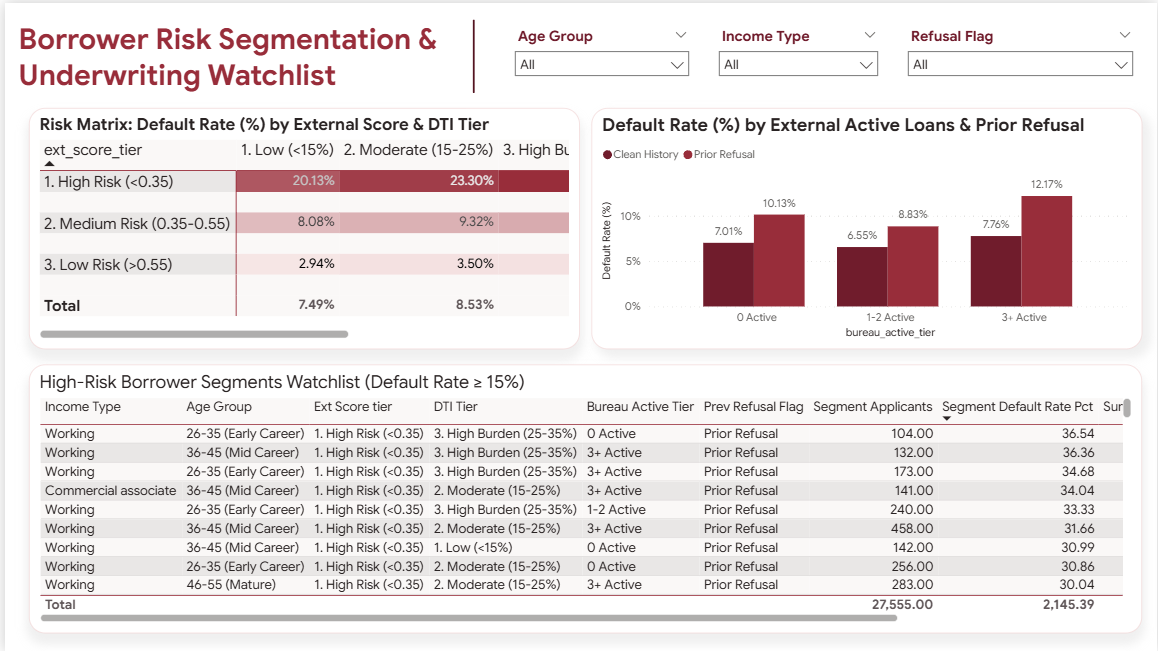

This screenshot's page, from the dashboard's own definition file:
{"tool":"powerbi","page":{"name":"#2 Executive Credit Portfolio & Default Overview","canvas":[1280,720],"ordinal":1},"visuals":[{"type":"textbox","box":[10,14.4,533.3,90],"z":0},{"type":"slicer","fields":{"Values":["public vw_credit_portfolio_summary.age_group"]},"box":[556.7,21.9,213.3,75],"z":1000},{"type":"slicer","fields":{"Values":["public vw_credit_portfolio_summary.name_income_type"]},"box":[783.3,21.9,196.7,75],"z":2000},{"type":"slicer","fields":{"Values":["public vw_credit_portfolio_summary.prev_refusal_flag"]},"box":[993.3,21.9,270,75],"z":3000},{"type":"shape","box":[503.3,18.3,35,81.7],"z":5000},{"type":"pivotTable","title":"Risk Matrix: Default Rate (%) by External Score & DTI Tier","fields":{"Rows":["public vw_credit_portfolio_summary.ext_score_tier"],"Values":["_Measures.Default Rate (%)"],"Columns":["public vw_credit_portfolio_summary.dti_tier"]},"box":[26,116,612,268],"z":10000},{"type":"clusteredColumnChart","title":"Default Rate (%) by External Active Loans & Prior Refusal","fields":{"Y":["_Measures.Default Rate (%)"],"Category":["public vw_credit_portfolio_summary.bureau_active_tier"],"Series":["public vw_credit_portfolio_summary.prev_refusal_flag"]},"box":[651.8,116.4,611.8,268.2],"z":11000},{"type":"tableEx","title":"High-Risk Borrower Segments Watchlist (Default Rate ≥ 15%)","fields":{"Values":["public vw_high_risk_watchlist.name_income_type","public vw_high_risk_watchlist.age_group","public vw_high_risk_watchlist.ext_score_tier","public vw_high_risk_watchlist.dti_tier","public vw_high_risk_watchlist.bureau_active_tier","public vw_high_risk_watchlist.prev_refusal_flag","Sum(public vw_high_risk_watchlist.segment_applicants)","Sum(public vw_high_risk_watchlist.segment_default_rate_pct)","Sum(public vw_high_risk_watchlist.segment_defaults)","Sum(public vw_high_risk_watchlist.at_risk_exposure_million)"]},"box":[26.7,401.7,1236.7,298.3],"z":13000}]}

Visuals, with their boxes in screenshot pixels (x1, y1, x2, y2), scaled from the page's 1280x720 canvas onto the 1158x651 screenshot:
textbox: x1=9, y1=13, x2=492, y2=94
slicer - public vw_credit_portfolio_summary.age_group: x1=504, y1=20, x2=697, y2=88
slicer - public vw_credit_portfolio_summary.name_income_type: x1=709, y1=20, x2=887, y2=88
slicer - public vw_credit_portfolio_summary.prev_refusal_flag: x1=899, y1=20, x2=1143, y2=88
shape: x1=455, y1=17, x2=487, y2=90
"Risk Matrix: Default Rate (%) by External Score & DTI Tier" pivotTable: x1=24, y1=105, x2=577, y2=347
"Default Rate (%) by External Active Loans & Prior Refusal" clusteredColumnChart: x1=590, y1=105, x2=1143, y2=348
"High-Risk Borrower Segments Watchlist (Default Rate ≥ 15%)" tableEx: x1=24, y1=363, x2=1143, y2=633
